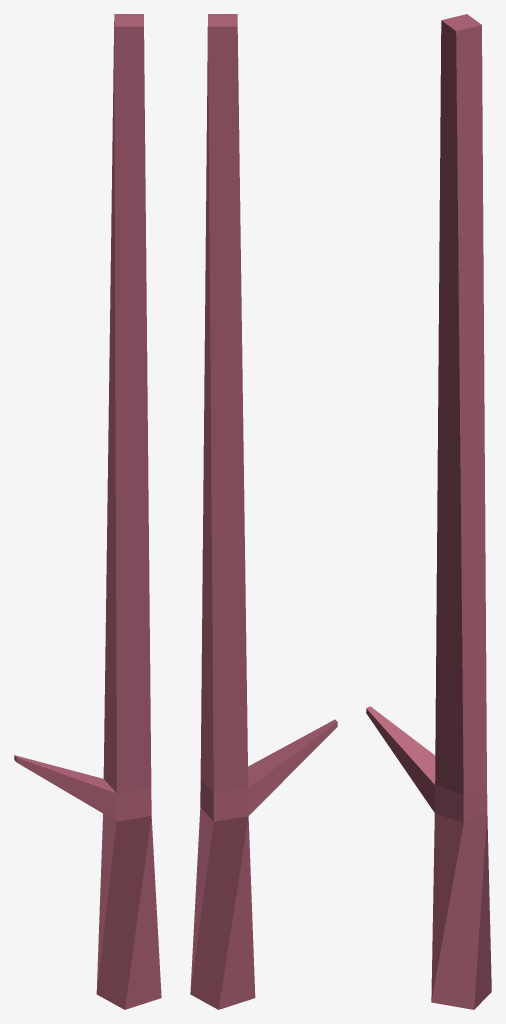
File: back_tree_1.fbx
3 views of the same model, side by side, from view 1: azimuth 30°, elevation 25°; view 2: azimuth 210°, elevation 25°; view 3: azimuth 330°, elevation 25° (orthographic).
Parts seen in each view (by area): view 1: Cube.131; view 2: Cube.131; view 3: Cube.131.
Part boxes in pixels (<box>): Cube.131: <box>14,14,161,1009</box>; Cube.131: <box>190,14,337,1009</box>; Cube.131: <box>366,14,491,1009</box>.
Size of the model in its own units: 320 by 2357 by 114.
